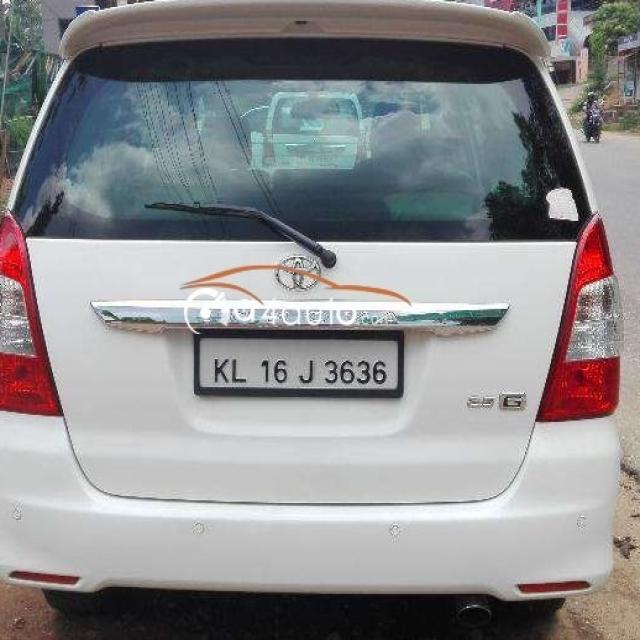number_plate: (200, 344, 394, 390)
